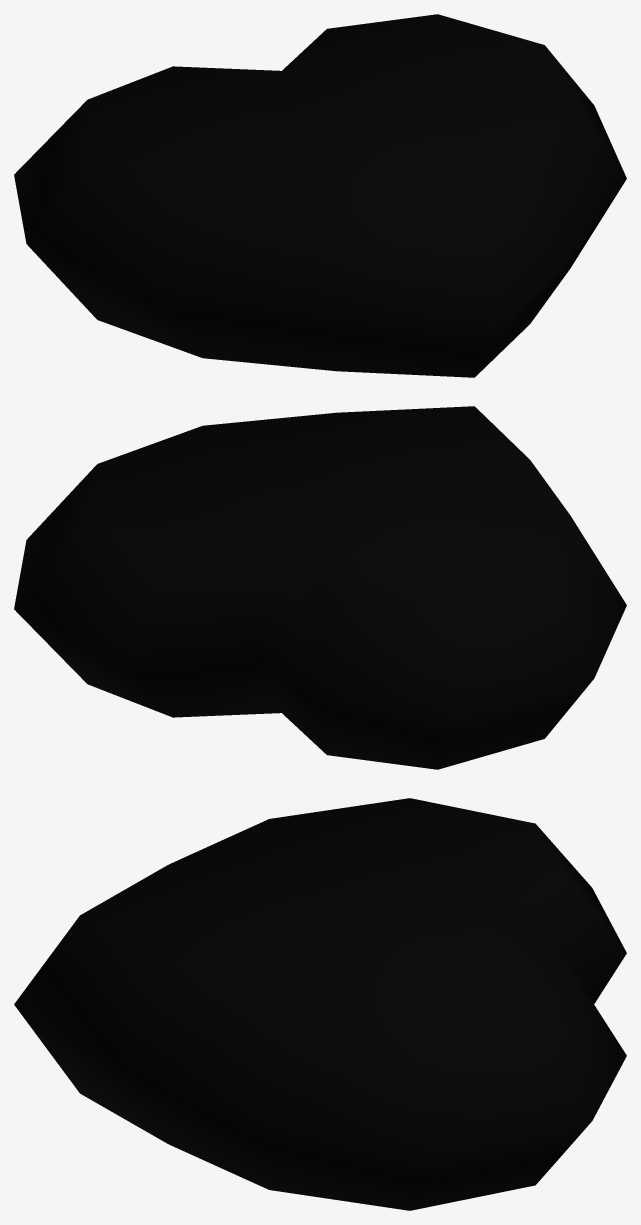
Rendered from Heart.fbx.
3 renders of one model, top to bottom at view 1: azimuth 30°, elevation 25°; view 2: azimuth 150°, elevation 25°; view 3: azimuth 270°, elevation 25°, orthographic. The views are drawn at different scales.
Parts seen in each view (by area): view 1: Heart; view 2: Heart; view 3: Heart.
Boxes of the visible parts, x1,y1,x2,y2 form: Heart: (14,14,626,377); Heart: (14,406,626,769); Heart: (14,798,626,1210).
Bounding box in the file's own units: 0.0606 × 0.0169 × 0.0527.
